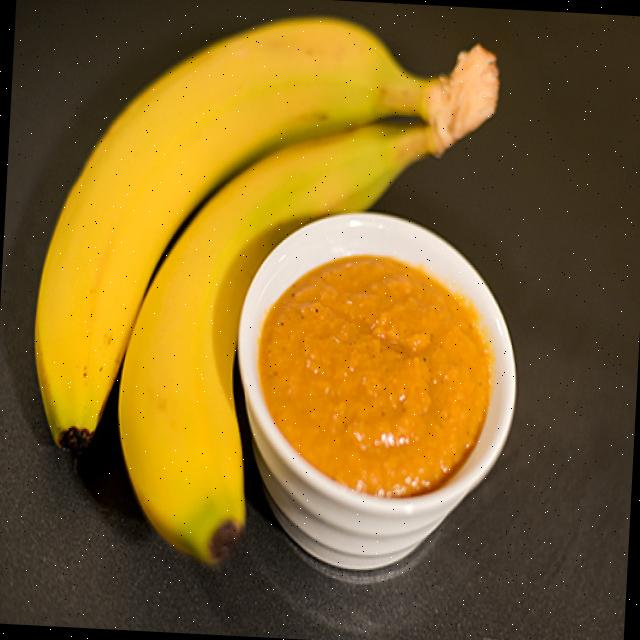Pisang: (22, 1, 502, 578)
